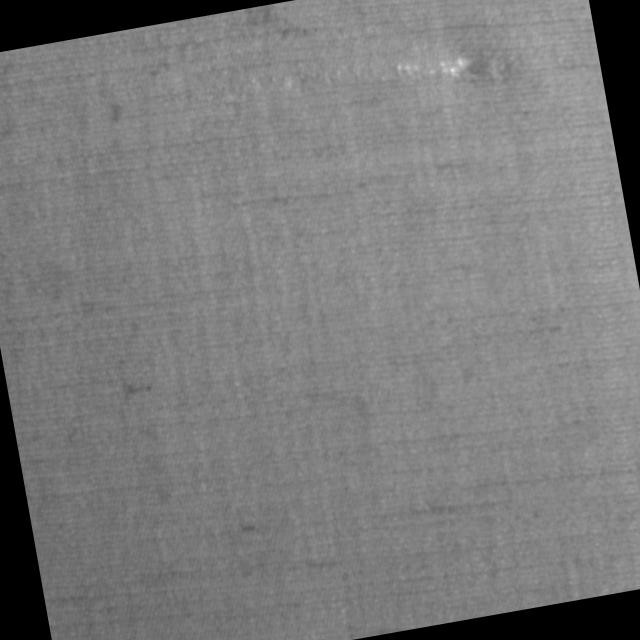thread error: (217, 18, 528, 142)
